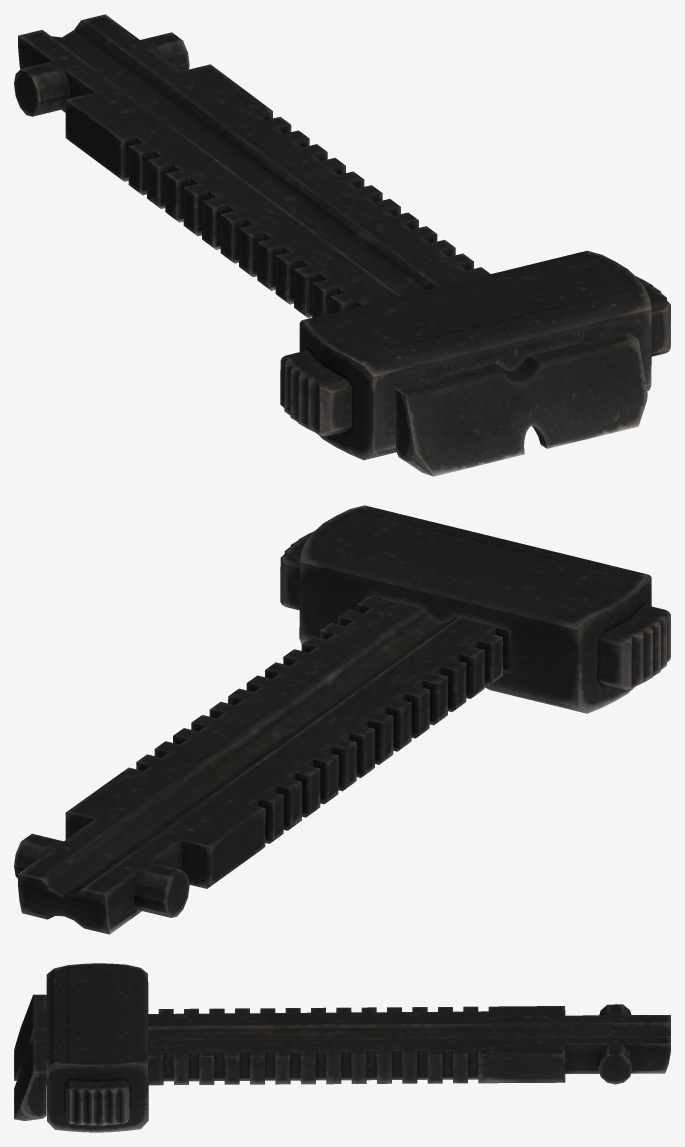
3 views of the same model, one above another, from view 1: azimuth 30°, elevation 25°; view 2: azimuth 150°, elevation 25°; view 3: azimuth 270°, elevation 25° (orthographic). The views are drawn at different scales.
Parts seen in each view (by area): view 1: TW_64119d90dcf48d656f0aa275_PZ_Import; view 2: TW_64119d90dcf48d656f0aa275_PZ_Import; view 3: TW_64119d90dcf48d656f0aa275_PZ_Import.
Part boxes in pixels (x1=…): TW_64119d90dcf48d656f0aa275_PZ_Import: x1=14, y1=14, x2=670, y2=476; TW_64119d90dcf48d656f0aa275_PZ_Import: x1=14, y1=505, x2=670, y2=934; TW_64119d90dcf48d656f0aa275_PZ_Import: x1=14, y1=963, x2=670, y2=1132.
Size of the model in its own units: 0.0165 by 0.0375 by 0.00446.
1 material, 1 textured.
